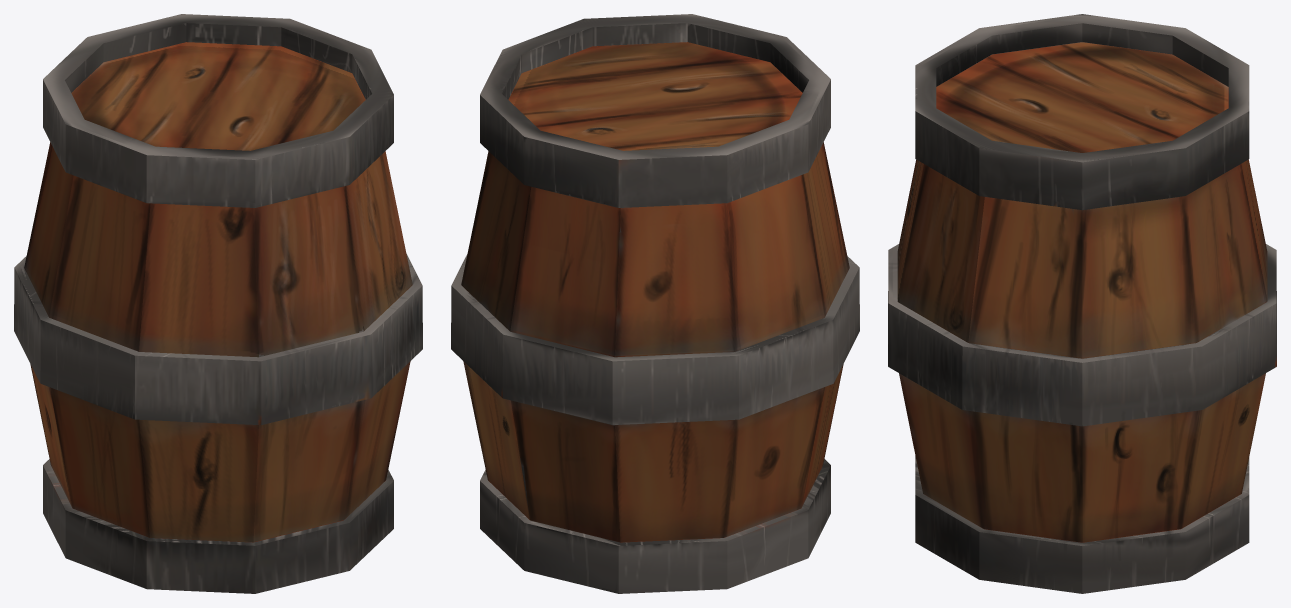
File: Barrel.fbx
3 views of the same model, side by side, from view 1: azimuth 30°, elevation 25°; view 2: azimuth 150°, elevation 25°; view 3: azimuth 270°, elevation 25° (orthographic).
Parts seen in each view (by area): view 1: Barril; view 2: Barril; view 3: Barril.
Boxes of the visible parts, left/top/right/bottom form: Barril: left=14, top=14, right=422, bottom=593; Barril: left=451, top=14, right=859, bottom=593; Barril: left=888, top=14, right=1276, bottom=593.
Bounding box in the file's own units: 136 × 159 × 130.
